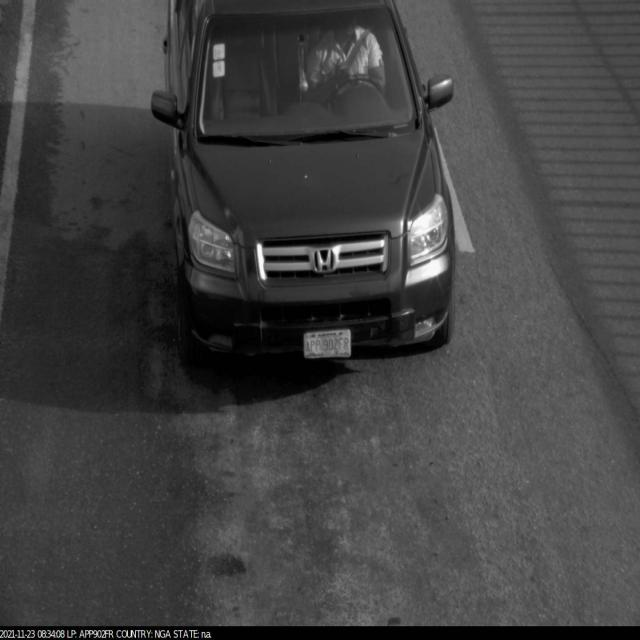windshield: (191, 2, 429, 161)
